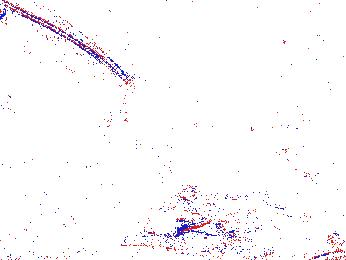glassfish: (1, 1, 139, 112)
siberian prawn: (151, 171, 321, 228), (118, 227, 288, 260)
